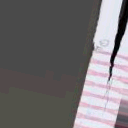crackTip: (104, 1, 128, 111)
